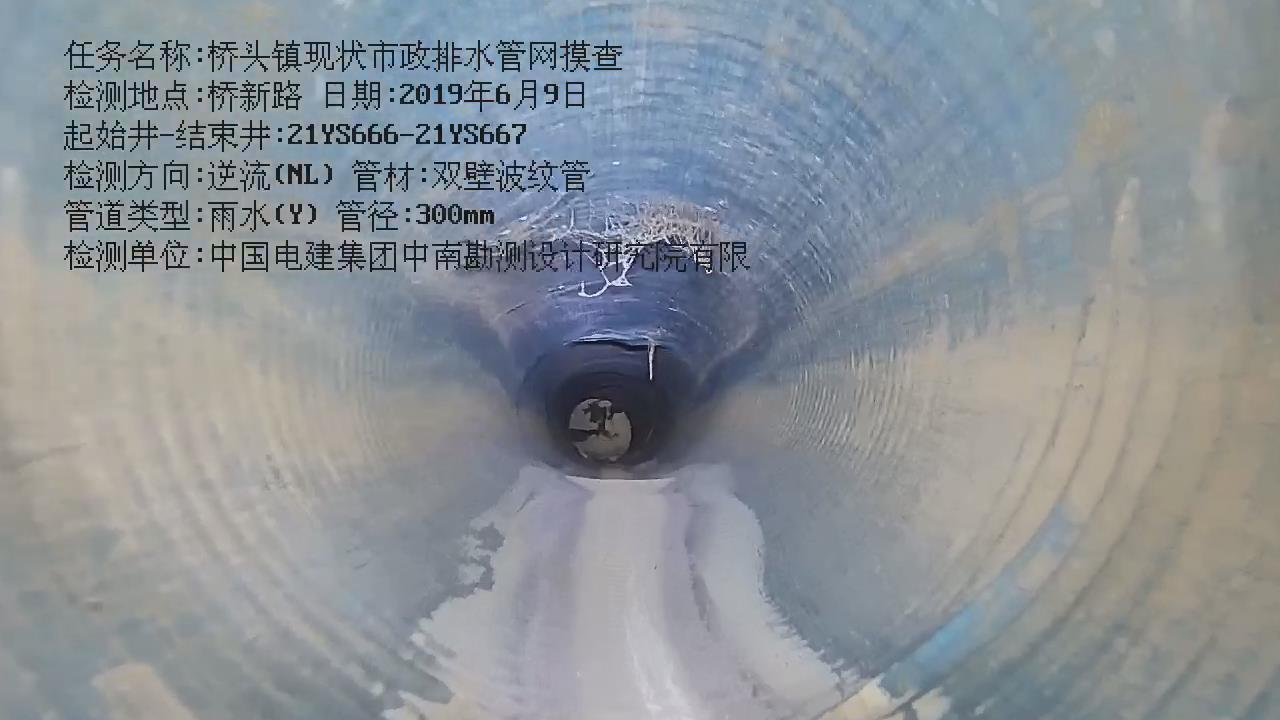BX: (512, 283, 731, 378)
